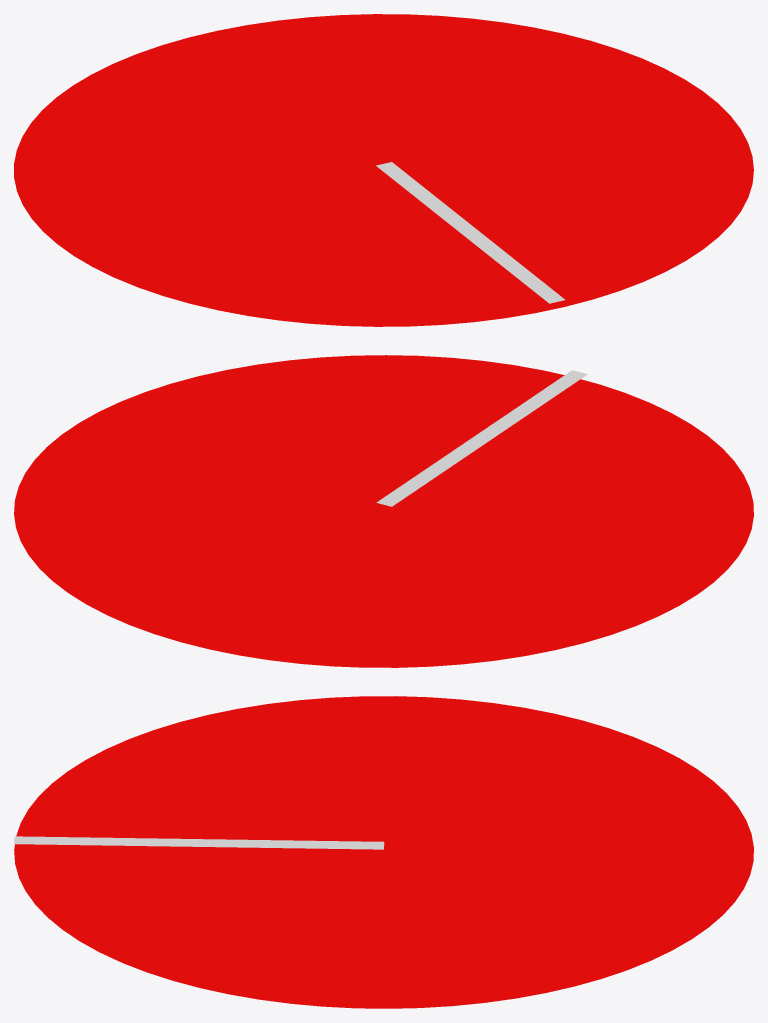
The model's file is result.glb.
3 views of the same model, one above another, from view 1: azimuth 30°, elevation 25°; view 2: azimuth 150°, elevation 25°; view 3: azimuth 270°, elevation 25° (orthographic).
Parts seen in each view (by area): view 1: abf4a305-7ba9-420a-92d1-b7605b52a3b9__Circle, b73eb263-7e00-4443-8754-ec3f3e0507a2__Plane_1; view 2: abf4a305-7ba9-420a-92d1-b7605b52a3b9__Circle, b73eb263-7e00-4443-8754-ec3f3e0507a2__Plane_1; view 3: abf4a305-7ba9-420a-92d1-b7605b52a3b9__Circle, b73eb263-7e00-4443-8754-ec3f3e0507a2__Plane_1.
Boxes of the visible parts, <box> form: abf4a305-7ba9-420a-92d1-b7605b52a3b9__Circle: <box>14,14,753,326</box>; b73eb263-7e00-4443-8754-ec3f3e0507a2__Plane_1: <box>376,162,564,303</box>; abf4a305-7ba9-420a-92d1-b7605b52a3b9__Circle: <box>14,355,753,667</box>; b73eb263-7e00-4443-8754-ec3f3e0507a2__Plane_1: <box>376,370,587,506</box>; abf4a305-7ba9-420a-92d1-b7605b52a3b9__Circle: <box>14,696,753,1008</box>; b73eb263-7e00-4443-8754-ec3f3e0507a2__Plane_1: <box>14,836,384,849</box>.
Size of the model in its own units: 99.97 by 1 by 99.99.
